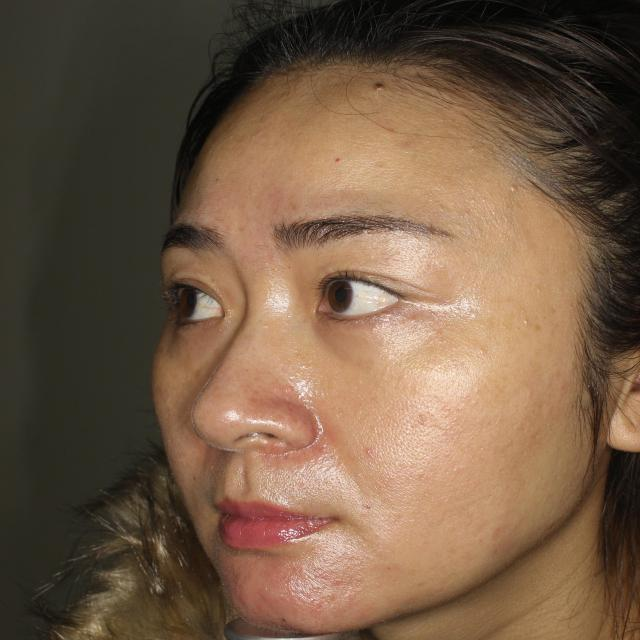acne: (231, 579, 246, 599)
